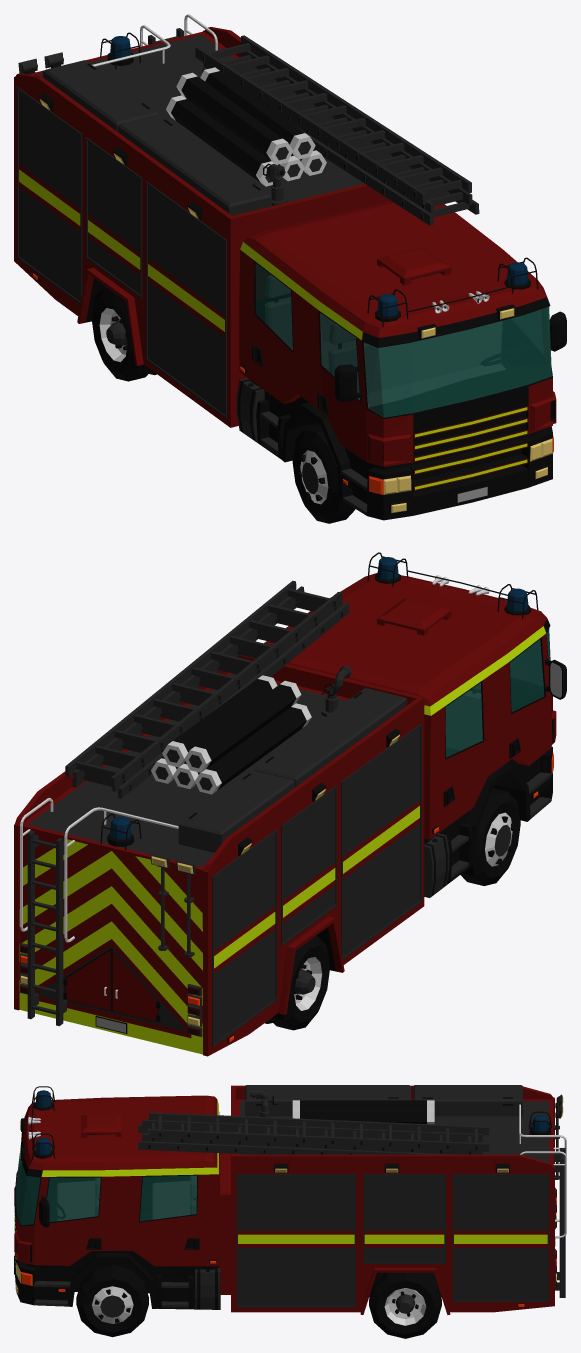
Rendered from FireTruck_02.FBX.
3 renders of one model, top to bottom at view 1: azimuth 30°, elevation 25°; view 2: azimuth 150°, elevation 25°; view 3: azimuth 270°, elevation 25°, orthographic. The views are drawn at different scales.
Visible parts, largest first — view 1: FireTruck_02, interior, pipes, ladder_t-3, grill, ladder_t-2, wheel_f_r, wheel_b_r, ladder_t-1, lights, headLights, mirror_r (+1 smaller); view 2: FireTruck_02, ladder_t-3, pipes, ladder_b, ladder_t-2, ladder_t-1, interior, wheel_f_r, wheel_b_r, lights, signalLights_02, mirror_r (+1 smaller); view 3: FireTruck_02, ladder_t-3, interior, ladder_t-2, wheels_f_l, wheels_b_l, pipes, ladder_t-1, lights, ladder_b, signalLights_02, hydrant.
Part boxes in pixels (x1=…): FireTruck_02: x1=14, y1=14, x2=556, y2=520; interior: x1=256, y1=263, x2=551, y2=417; pipes: x1=166, y1=67, x2=326, y2=186; ladder_t-3: x1=195, y1=35, x2=471, y2=204; grill: x1=408, y1=406, x2=528, y2=490; ladder_t-2: x1=203, y1=51, x2=472, y2=214; wheel_f_r: x1=292, y1=425, x2=355, y2=523; wheel_b_r: x1=92, y1=287, x2=156, y2=381; ladder_t-1: x1=202, y1=66, x2=479, y2=225; lights: x1=18, y1=52, x2=548, y2=514; headLights: x1=383, y1=308, x2=552, y2=513; mirror_r: x1=334, y1=364, x2=362, y2=401; FireTruck_02: x1=14, y1=552, x2=556, y2=1056; ladder_t-3: x1=65, y1=580, x2=341, y2=787; pipes: x1=151, y1=675, x2=311, y2=794; ladder_b: x1=27, y1=831, x2=67, y2=1026; ladder_t-2: x1=73, y1=586, x2=342, y2=791; ladder_t-1: x1=72, y1=602, x2=349, y2=798; interior: x1=446, y1=630, x2=549, y2=757; wheel_f_r: x1=460, y1=788, x2=520, y2=885; wheel_b_r: x1=265, y1=936, x2=329, y2=1030; lights: x1=20, y1=573, x2=537, y2=1042; signalLights_02: x1=20, y1=557, x2=398, y2=1035; mirror_r: x1=545, y1=658, x2=566, y2=699; FireTruck_02: x1=14, y1=1085, x2=566, y2=1314; ladder_t-3: x1=148, y1=1112, x2=489, y2=1151; interior: x1=16, y1=1158, x2=196, y2=1224; ladder_t-2: x1=142, y1=1119, x2=482, y2=1154; wheels_f_l: x1=76, y1=1265, x2=148, y2=1337; wheels_b_l: x1=369, y1=1272, x2=441, y2=1338; pipes: x1=292, y1=1100, x2=434, y2=1124; ladder_t-1: x1=138, y1=1124, x2=478, y2=1154; lights: x1=16, y1=1094, x2=562, y2=1307; ladder_b: x1=553, y1=1148, x2=565, y2=1297; signalLights_02: x1=35, y1=1114, x2=556, y2=1288; hydrant: x1=250, y1=1088, x2=278, y2=1117.
Size of the model in its own units: 34.26 by 39.26 by 95.09.
